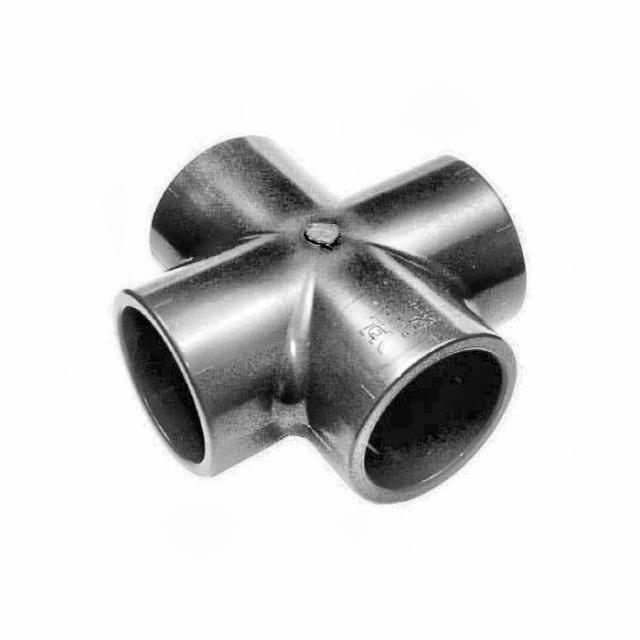EQUALCROSS: (112, 135, 528, 507)
